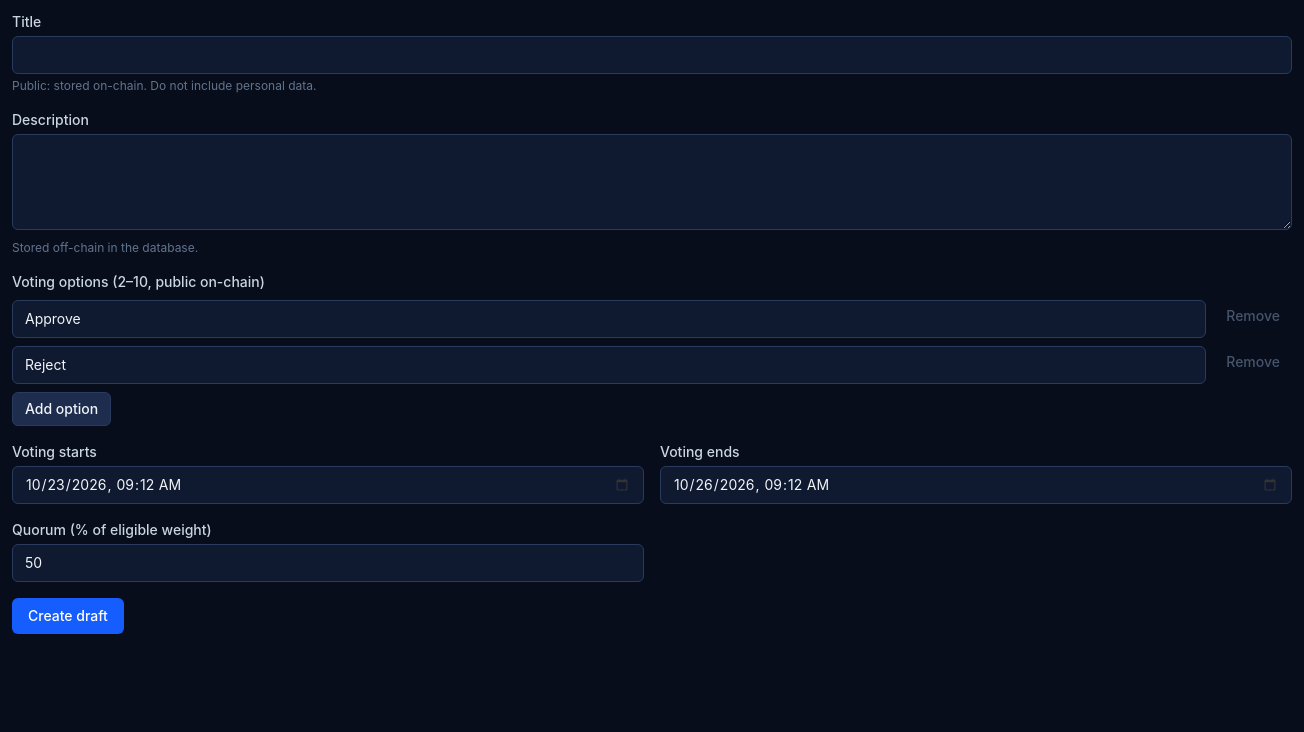
Scenario: ElectionForm validation › rejects an end time before the start time
Type "Board vote" into the field labelled "Title" at (652, 55), box [12,36,1292,74]
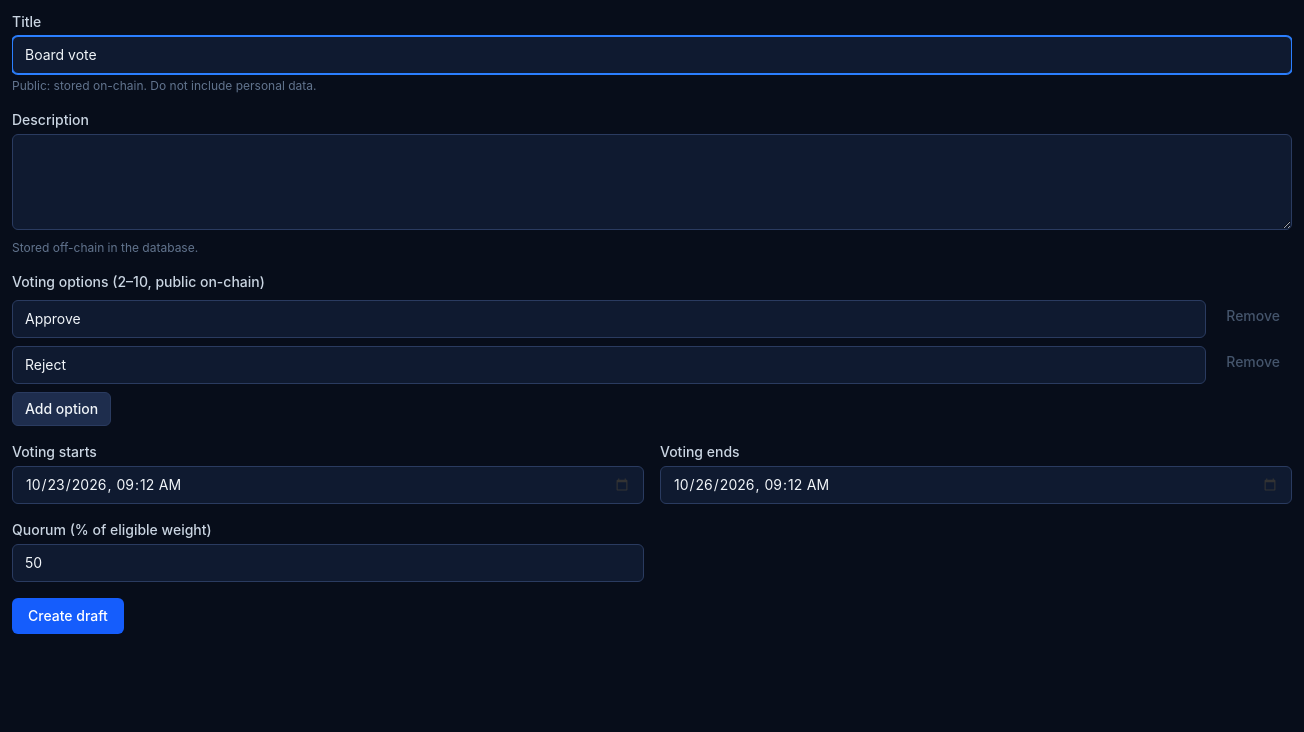
Replace the text in the field labelled "Voting ends" with "2020-01-01T10:00" at (976, 485), box [660,466,1292,504]
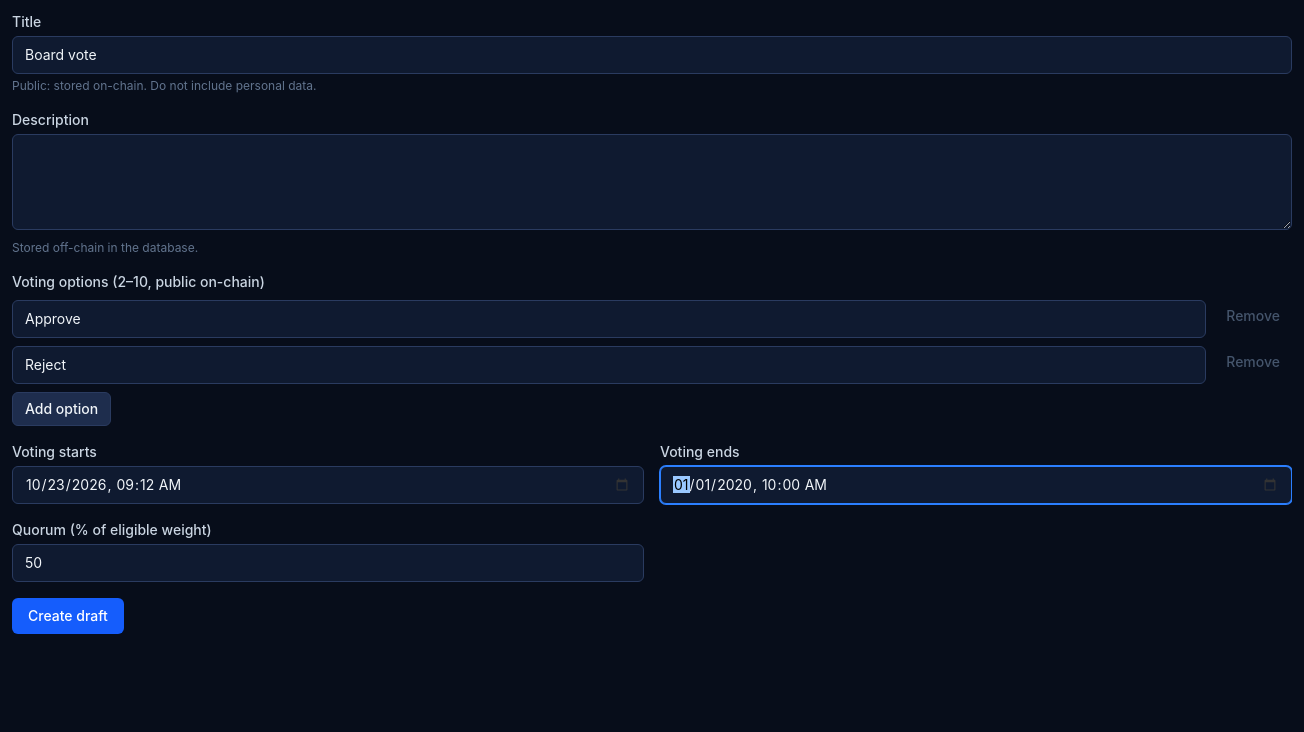
Click the button "Create draft" at (68, 616), box [12,598,124,634]
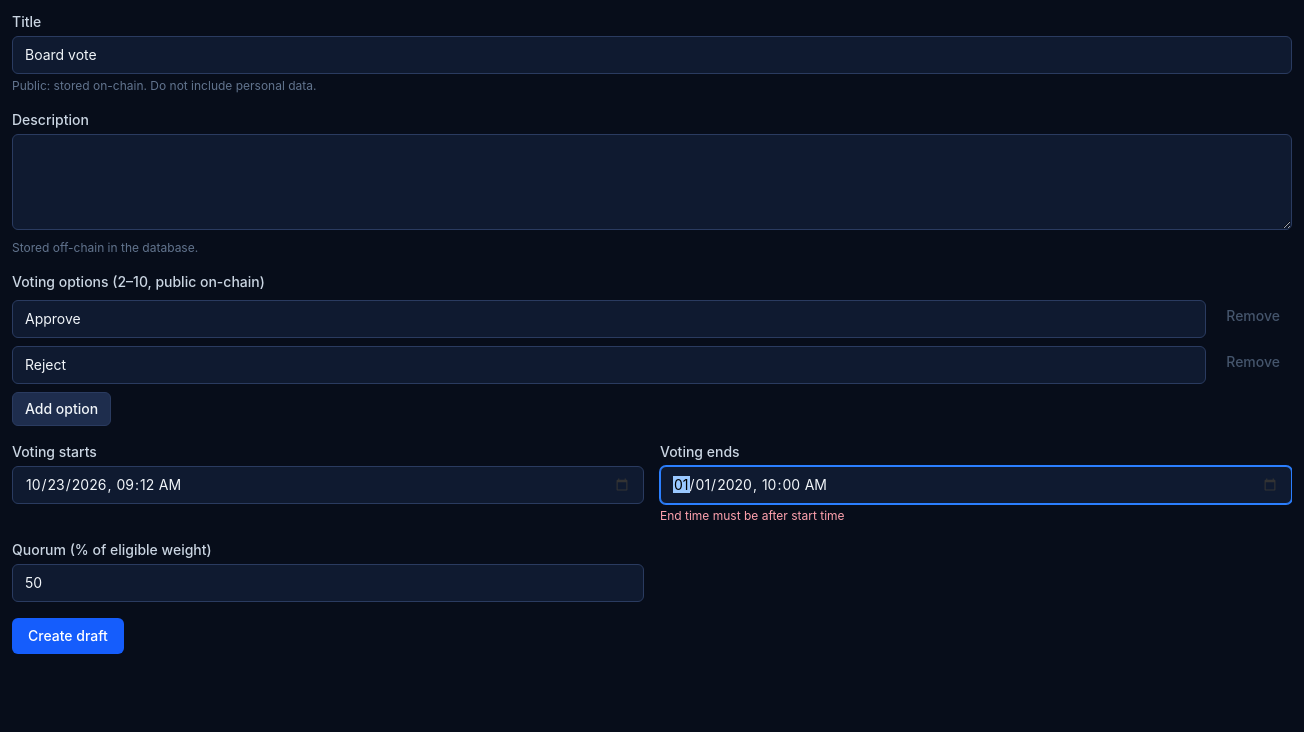
Now the text "End time must be after start time" is shown, box [660,508,845,523]
